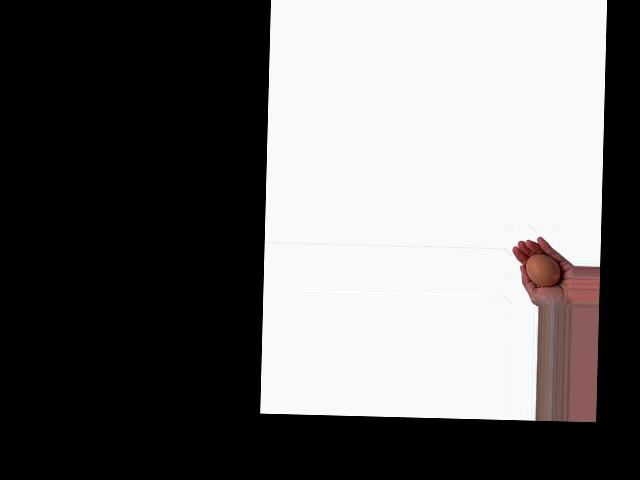egg: (525, 253, 560, 287)
